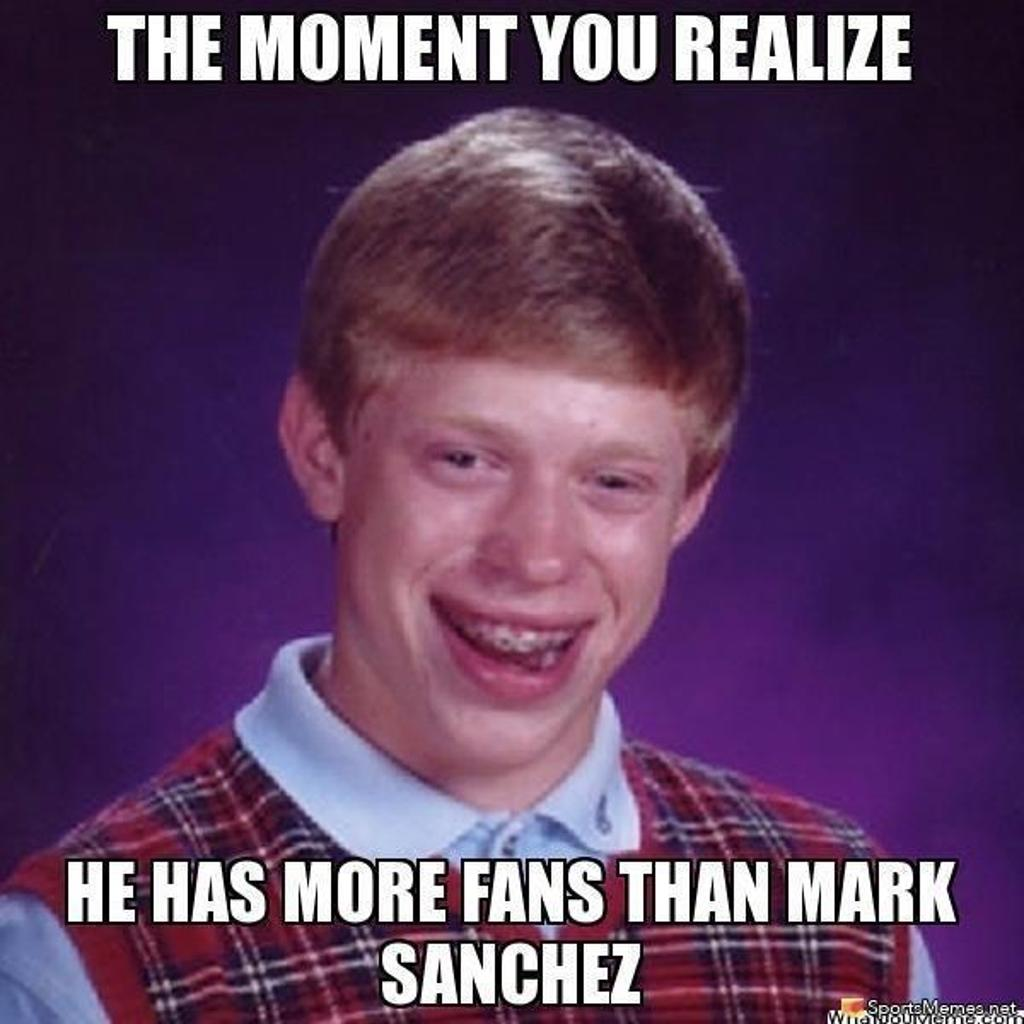face: (348, 298, 674, 764)
